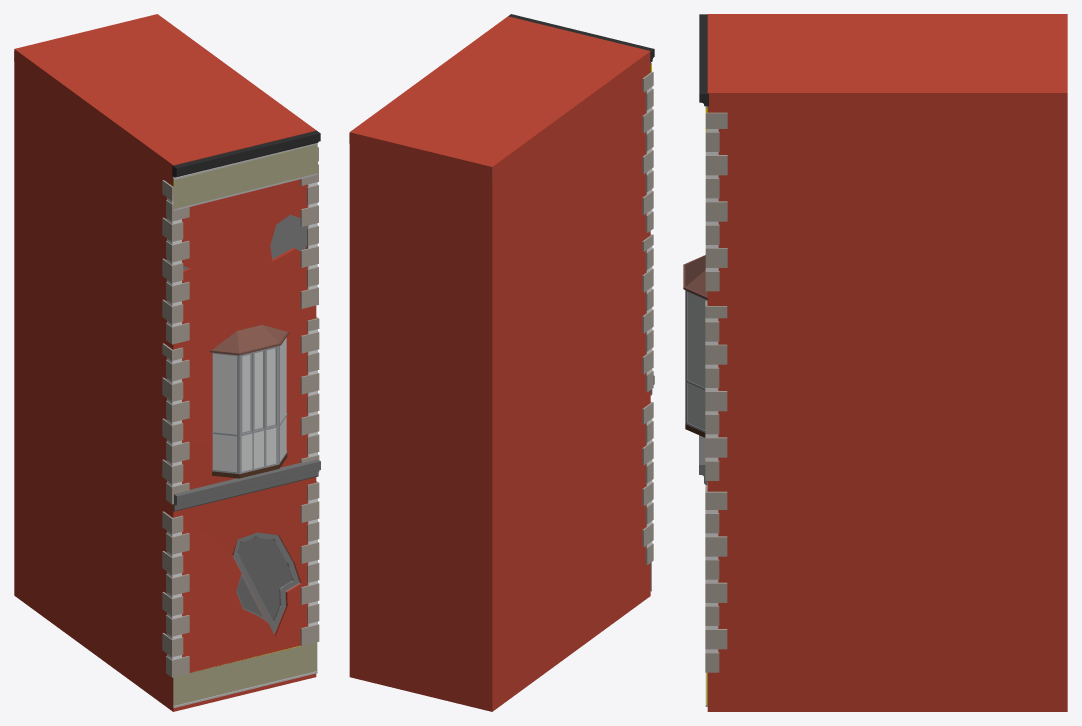
The model's file is last_build_1.fbx.
3 renders of one model, left to right at view 1: azimuth 30°, elevation 25°; view 2: azimuth 150°, elevation 25°; view 3: azimuth 270°, elevation 25°, orthographic. The views are drawn at different scales.
Parts seen in each view (by area): view 1: Building_1; view 2: Building_1; view 3: Building_1.
Part boxes in pixels (bbox=[...]): Building_1: bbox=[14, 14, 320, 711]; Building_1: bbox=[349, 14, 654, 711]; Building_1: bbox=[683, 14, 1067, 711].
Size of the model in its own units: 22.5 by 80 by 45.
